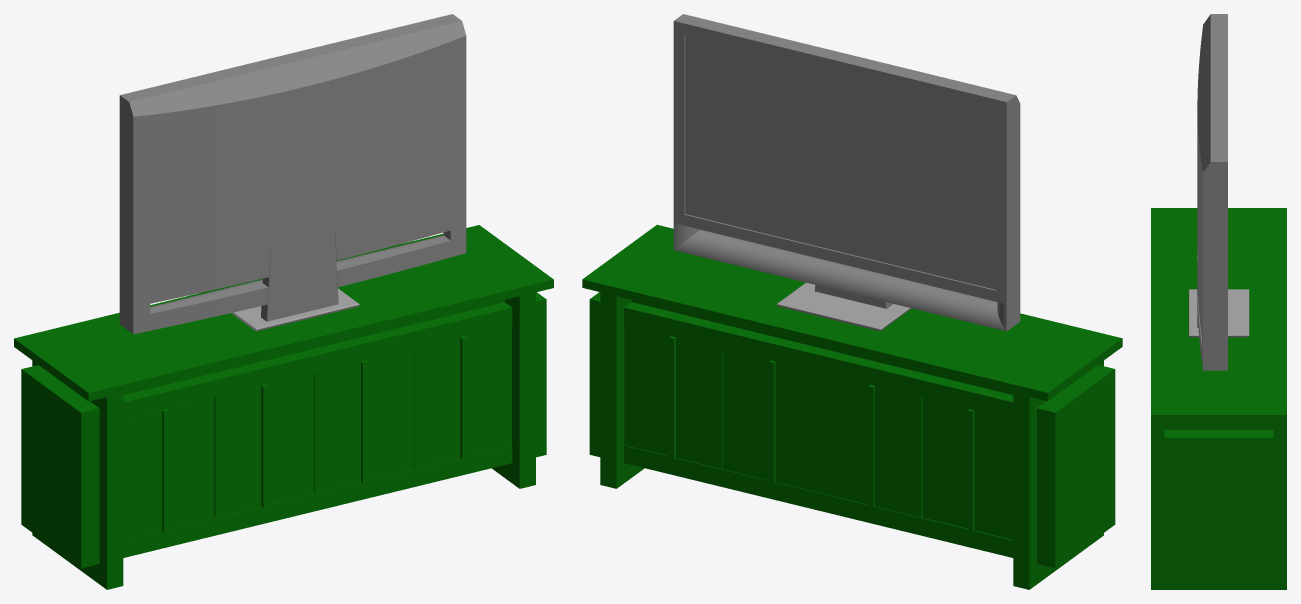
The picture shows the model from 3 angles, left to right: view 1: azimuth 30°, elevation 25°; view 2: azimuth 150°, elevation 25°; view 3: azimuth 270°, elevation 25°; orthographic projection. The views are drawn at different scales.
Visible parts, largest first — view 1: polySurface26, polySurface21, polySurface25; view 2: polySurface26, polySurface21, polySurface25; view 3: polySurface26, polySurface21, polySurface25.
Boxes of the visible parts, x1=… form: polySurface26: x1=14, y1=225, x2=553, y2=589; polySurface21: x1=119, y1=14, x2=466, y2=334; polySurface25: x1=231, y1=288, x2=359, y2=331; polySurface26: x1=582, y1=224, x2=1122, y2=589; polySurface21: x1=673, y1=14, x2=1020, y2=331; polySurface25: x1=776, y1=282, x2=911, y2=331; polySurface26: x1=1151, y1=208, x2=1286, y2=589; polySurface21: x1=1197, y1=14, x2=1227, y2=370; polySurface25: x1=1188, y1=289, x2=1249, y2=337.
Size of the model in its own units: 72 by 66.59 by 20.
